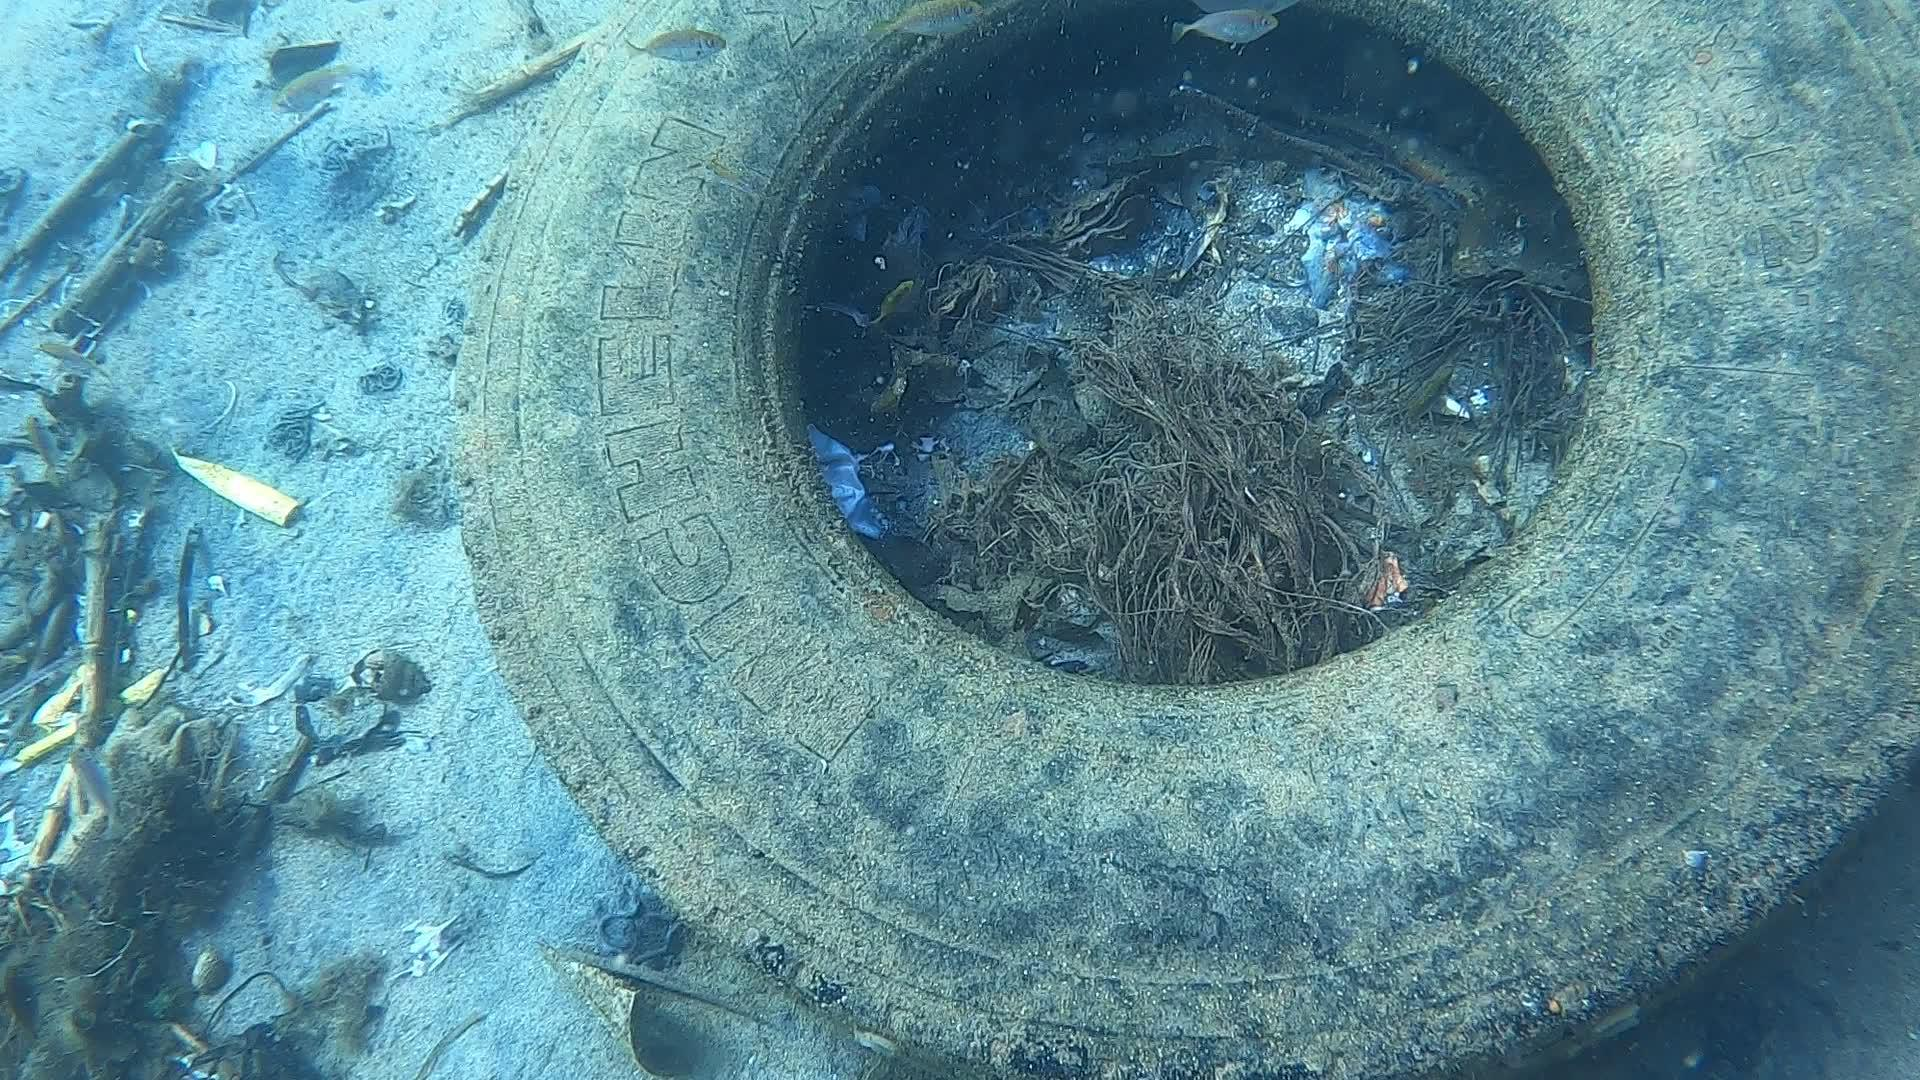tire: (446, 0, 1920, 1080)
